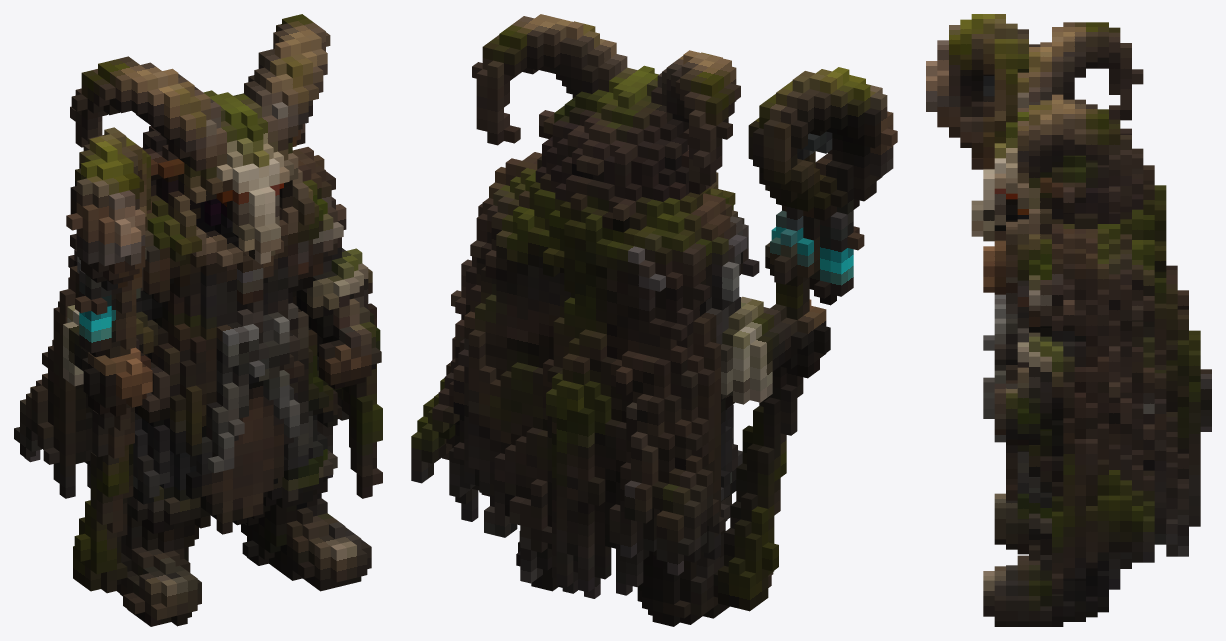
The model's file is u_chevrier.glb.
3 renders of one model, left to right at view 1: azimuth 30°, elevation 25°; view 2: azimuth 150°, elevation 25°; view 3: azimuth 270°, elevation 25°, orthographic. The views are drawn at different scales.
Parts seen in each view (by area): view 1: chevrier_body; view 2: chevrier_body; view 3: chevrier_body.
Boxes of the visible parts, x1=… form: chevrier_body: x1=14, y1=14, x2=382, y2=626; chevrier_body: x1=411, y1=14, x2=897, y2=626; chevrier_body: x1=926, y1=14, x2=1211, y2=626.
Bounding box in the file's own units: 1.2 × 1.63 × 0.8333.
1 material, 1 textured.
